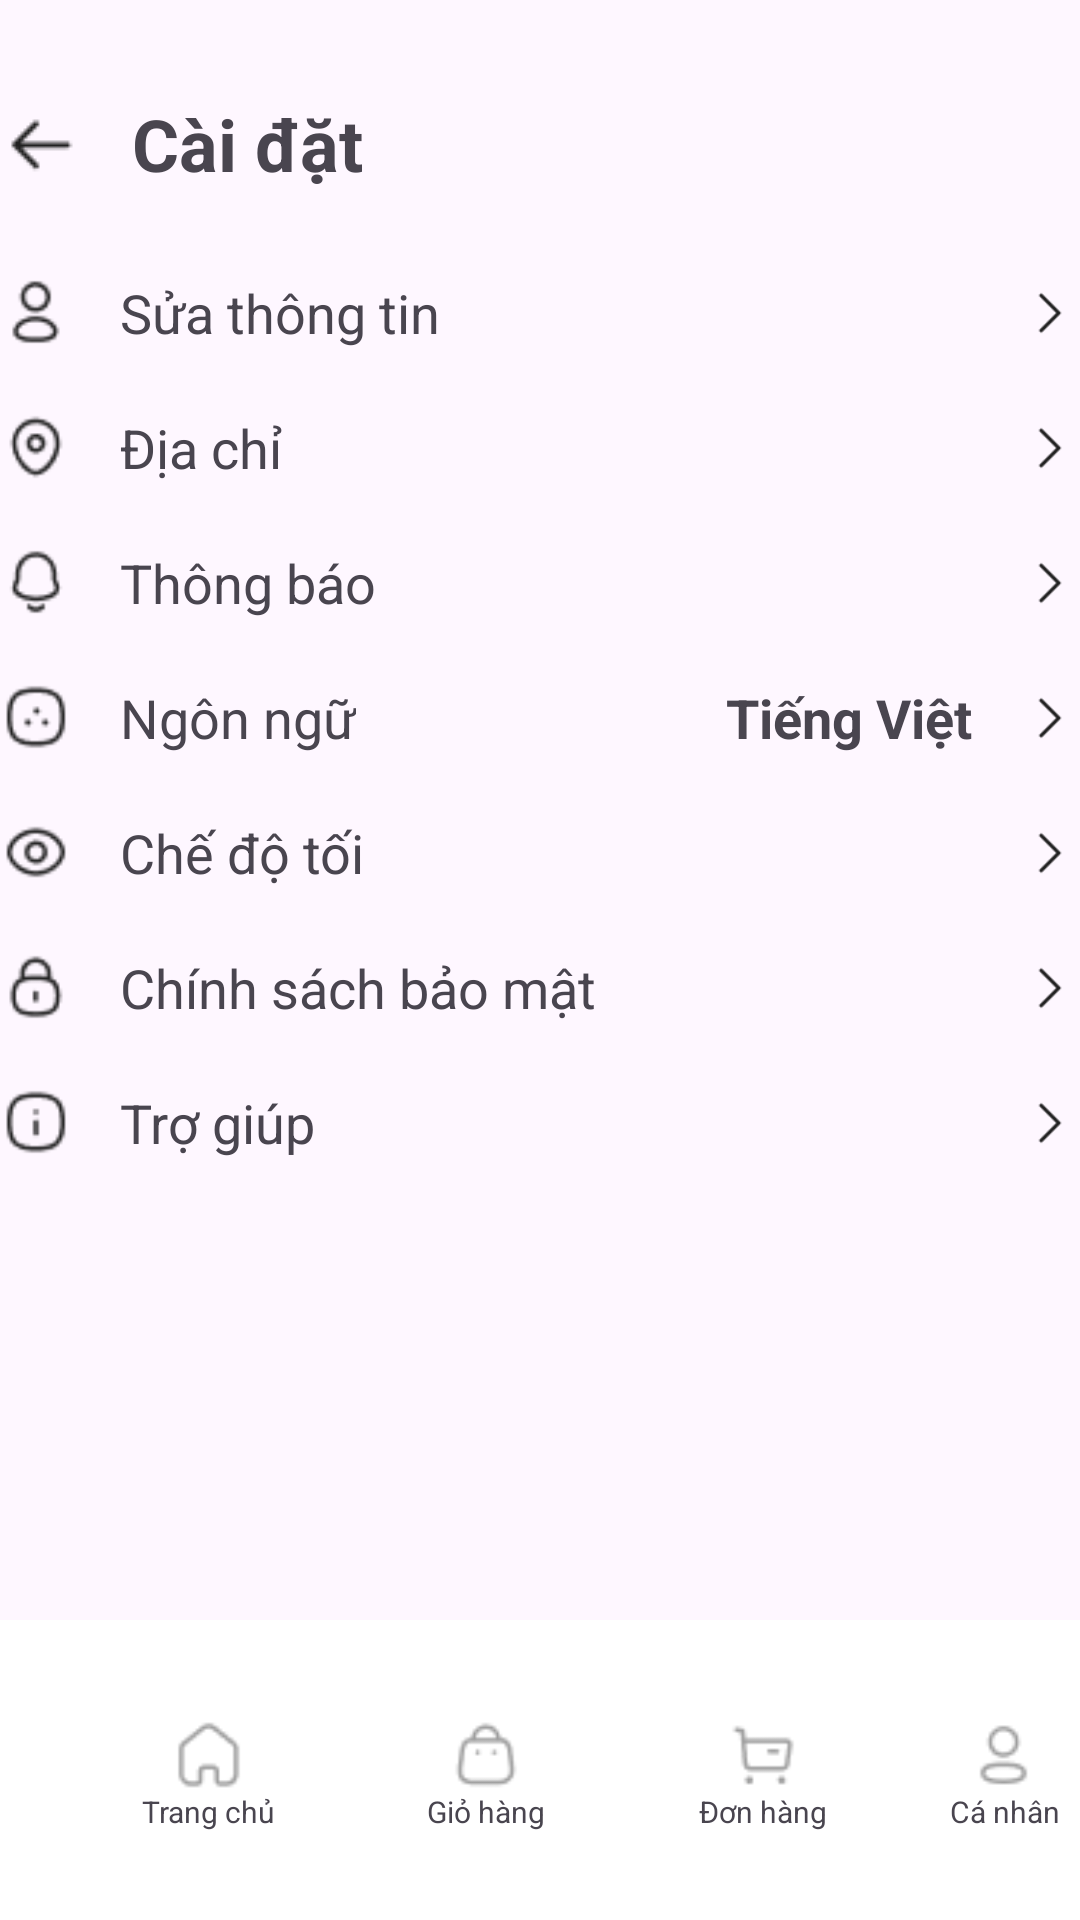

Screen size 1080px x 1920px. Icon name, then its box in pixels as detection(x1, y1, x2, y2):
back: detection(11, 119, 72, 170)
bag: detection(457, 1723, 515, 1785)
buy: detection(734, 1726, 793, 1785)
choose arrow: detection(1038, 293, 1062, 333), detection(1038, 428, 1062, 468), detection(1038, 563, 1062, 603), detection(1038, 698, 1062, 738), detection(1038, 833, 1062, 873), detection(1038, 968, 1062, 1008), detection(1038, 1103, 1062, 1143)
eyes: detection(6, 827, 66, 877)
help: detection(6, 1091, 66, 1153)
lock: detection(9, 956, 63, 1018)
map: detection(10, 417, 62, 477)
noti: detection(11, 551, 61, 613)
user: detection(12, 281, 60, 343)
